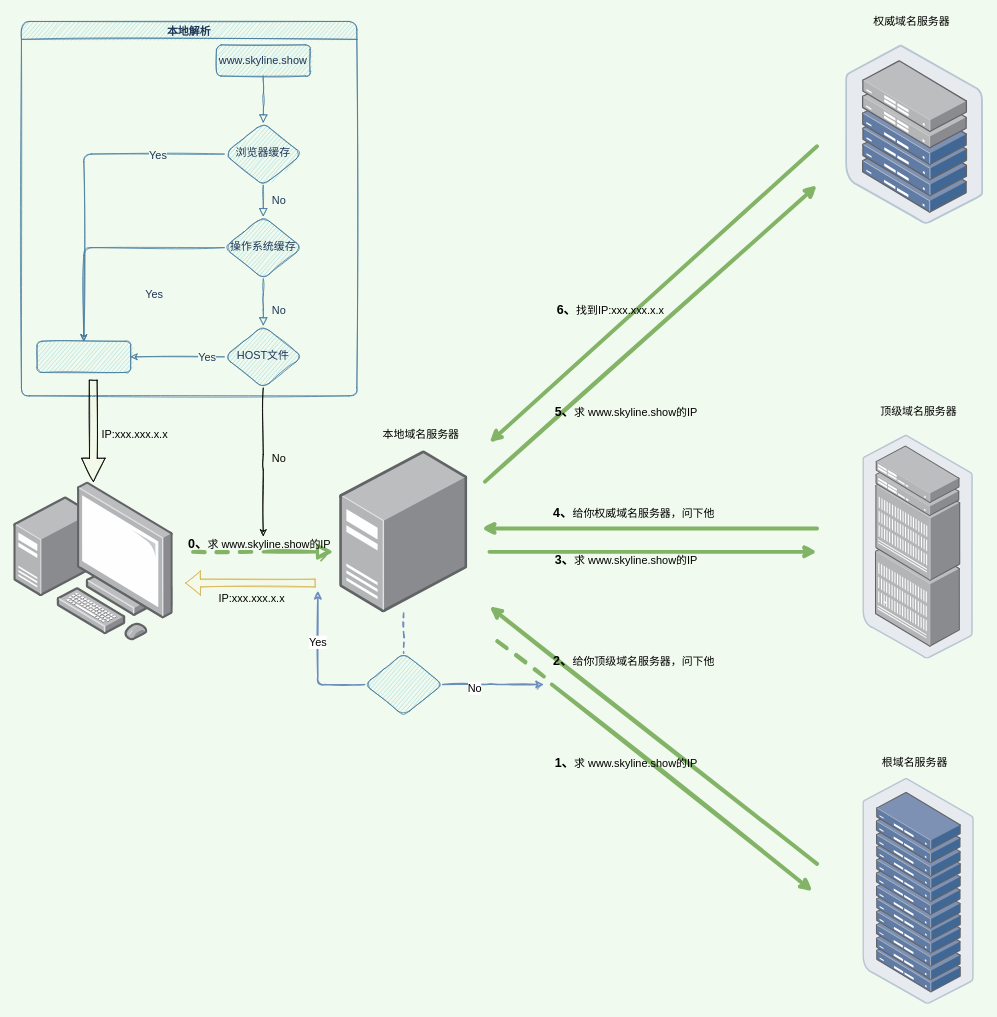
Some shapes in this 997 by 1017 pixel diagram are drawn without their labels. Each missing label, with the centre of its shape:
本地DNS服务器缓存: (x=403, y=684)
返回IP地址: (x=83, y=356)
